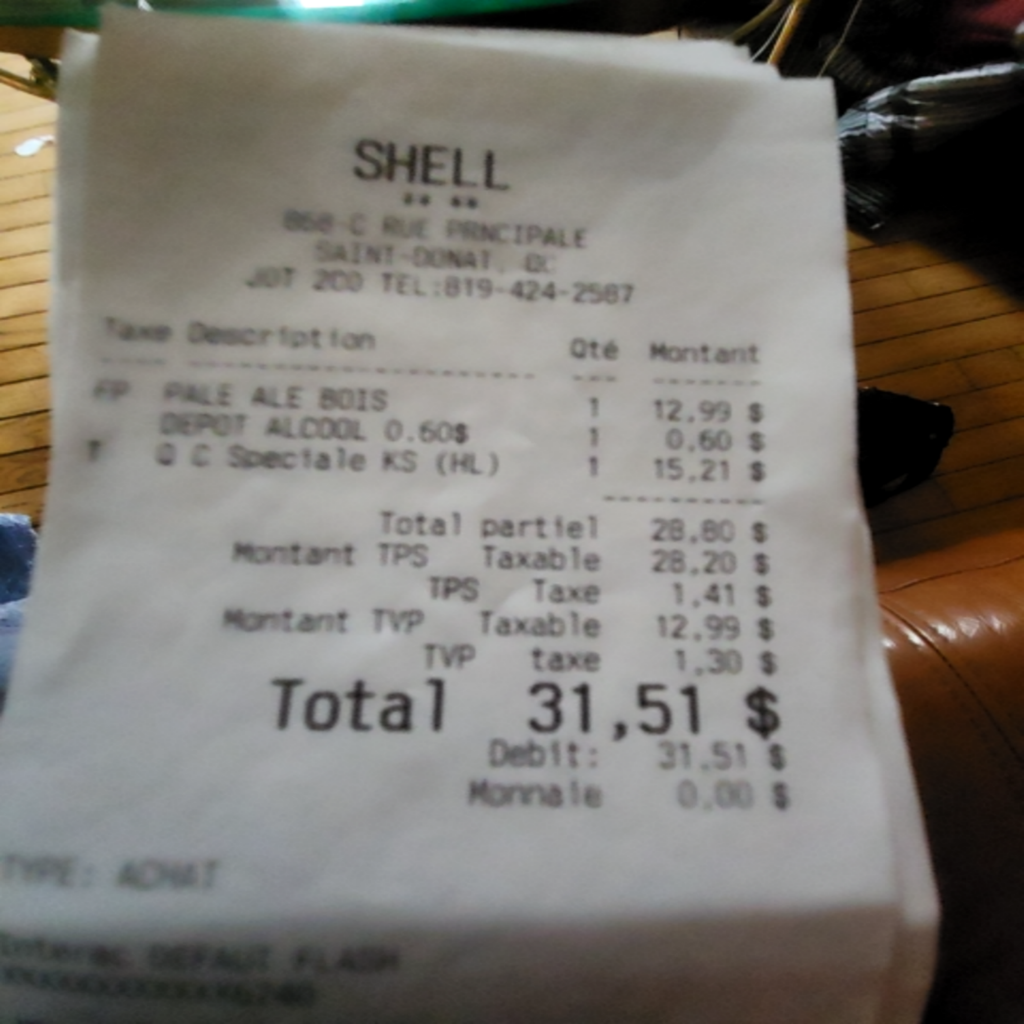recipt: (2, 13, 940, 1003)
